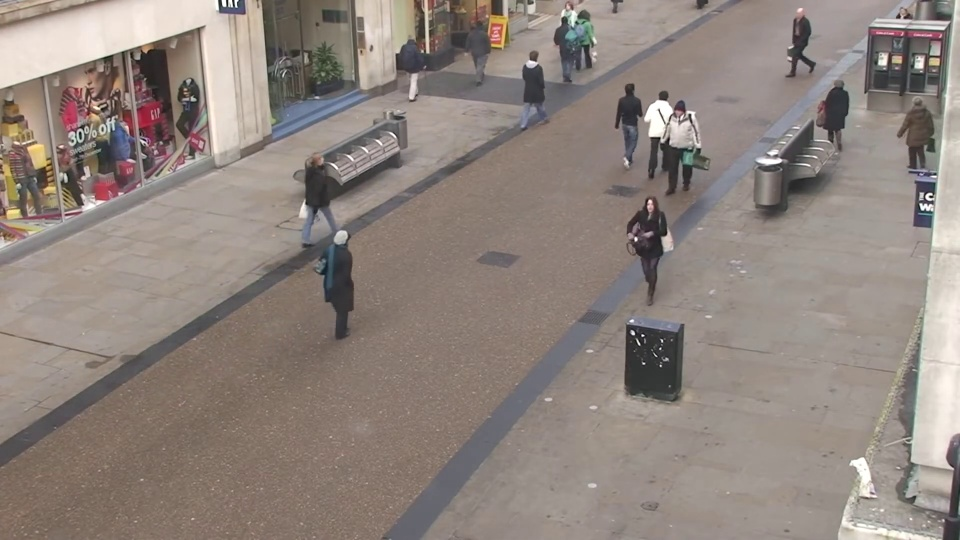pedestrian: (334, 221, 378, 345), (628, 192, 666, 309), (887, 90, 930, 183), (315, 144, 352, 247), (816, 73, 851, 159), (658, 105, 689, 199), (878, 6, 913, 79), (653, 82, 682, 169), (620, 76, 648, 161), (528, 45, 554, 121), (777, 4, 805, 72), (400, 29, 426, 100), (467, 19, 491, 87), (556, 11, 579, 78), (554, 0, 577, 64), (574, 9, 596, 75)
